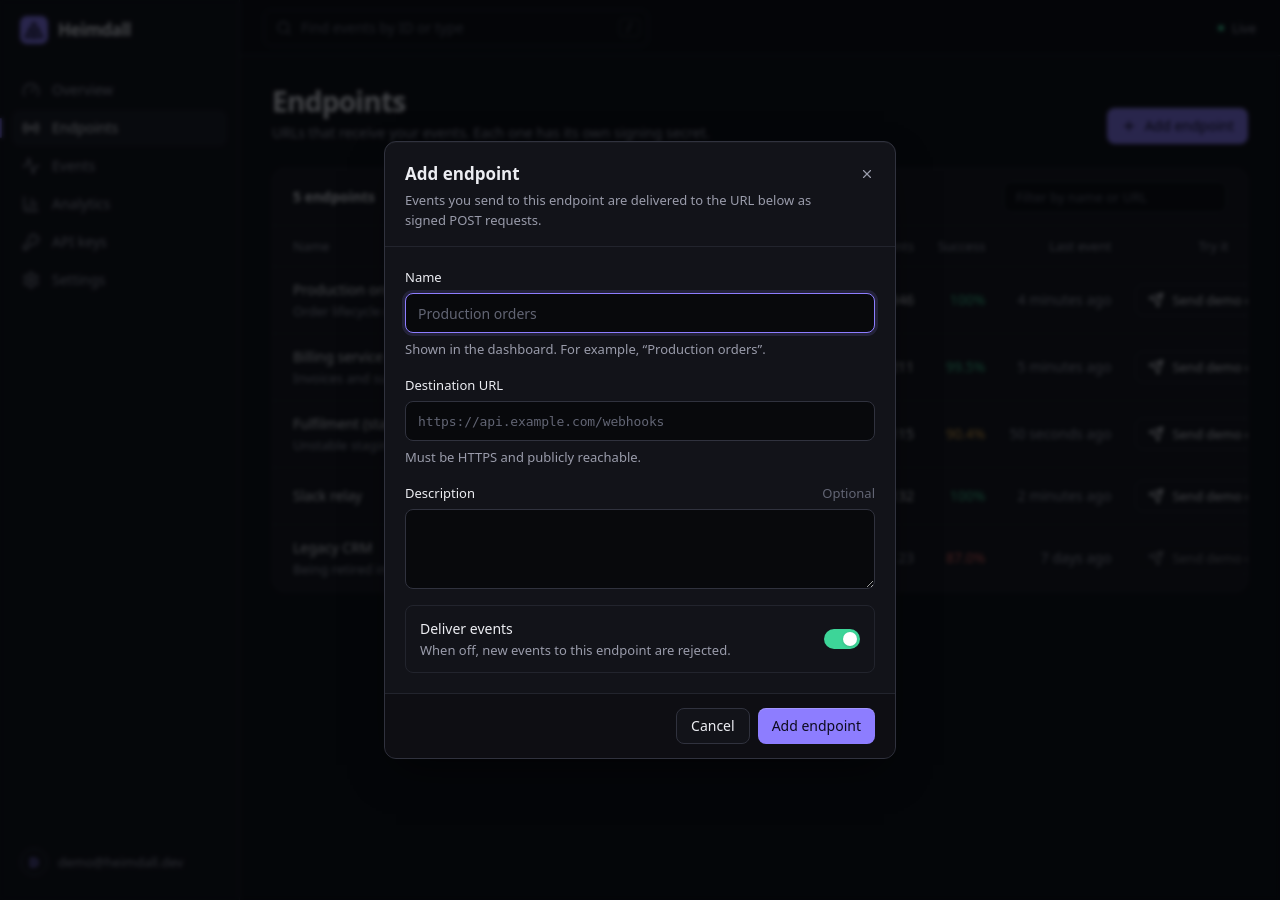
endpoints › surfaces server-side URL validation on the field
Type "Plain http" into the field labelled "Name" at (640, 313), box [405,293,875,333]
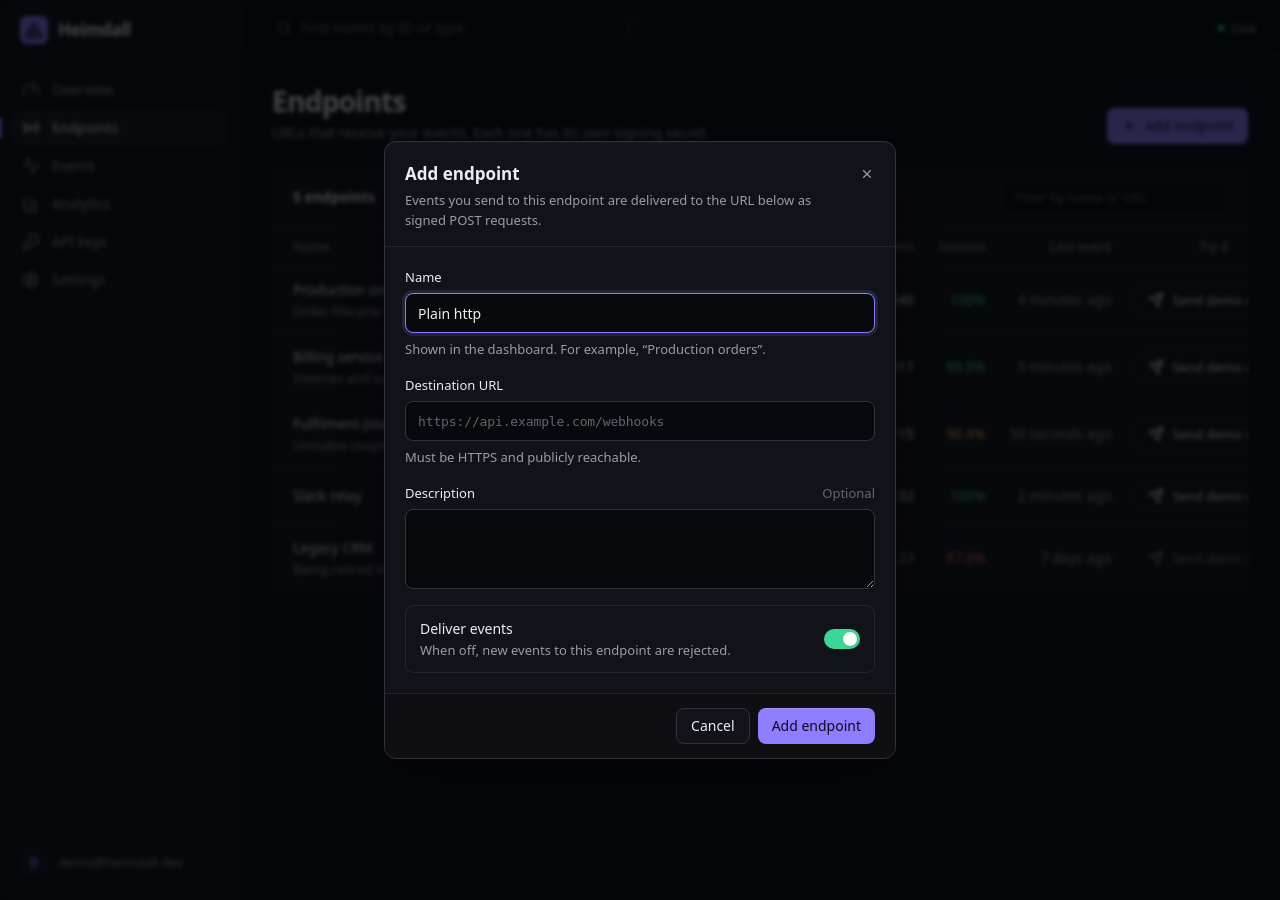
Type "http://example.com/hook" into the field labelled "Destination URL" at (640, 421), box [405,401,875,441]
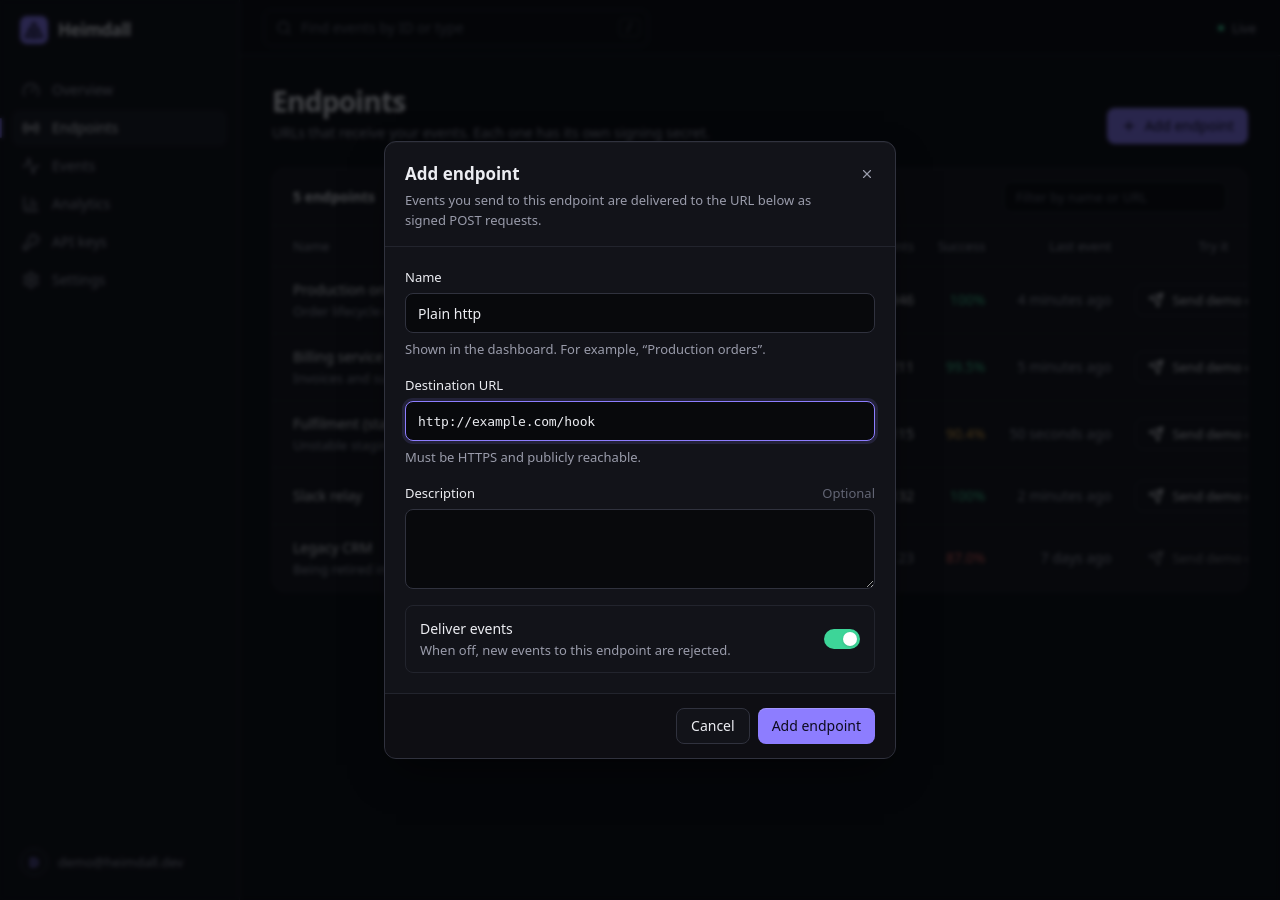
Click the button "Add endpoint" at (816, 726), box [758,708,875,744]
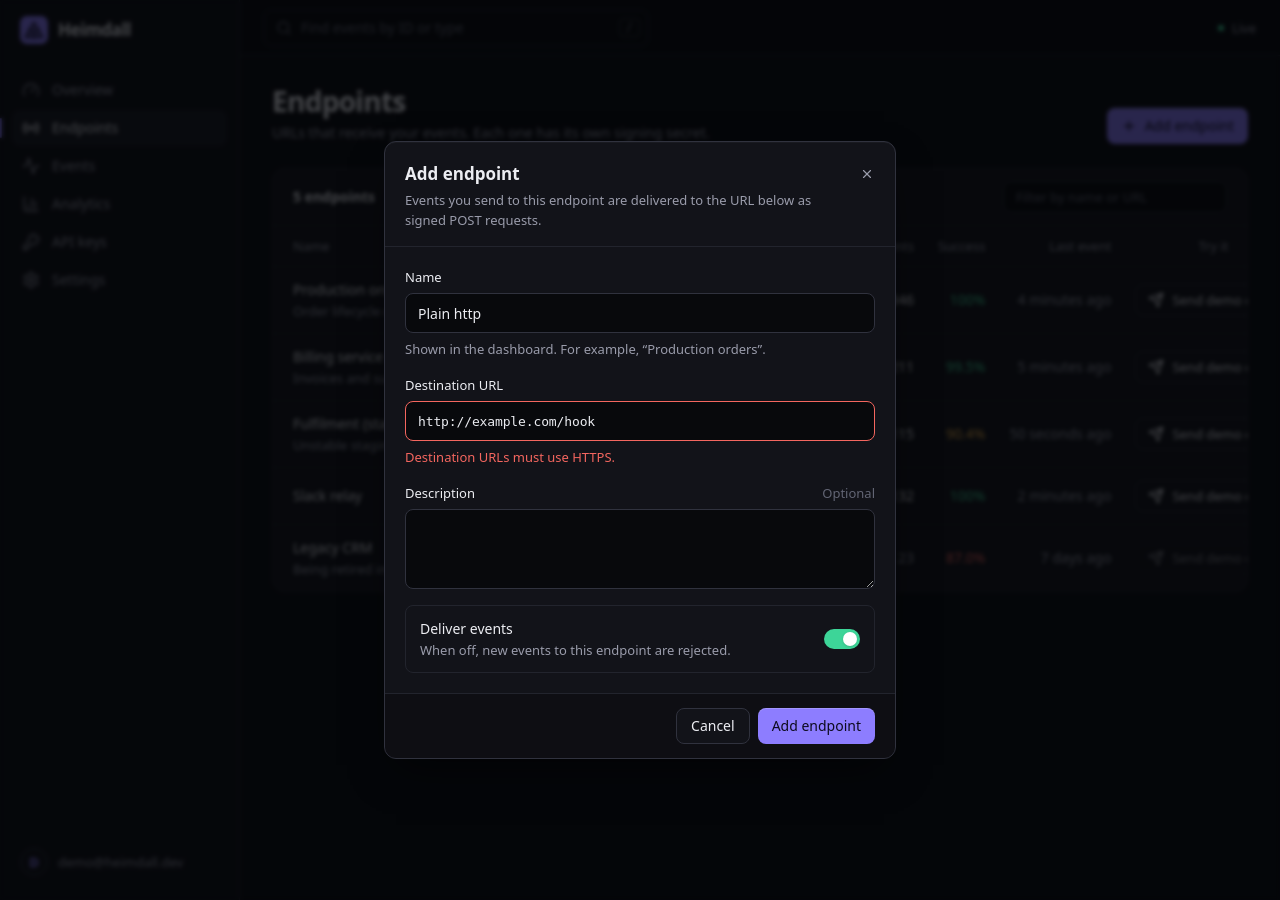
Check: the text "Destination URLs must use HTTPS." is shown, box [405,448,615,466]
